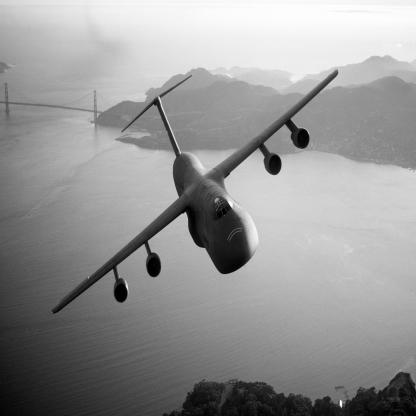C5: (53, 70, 341, 315)
